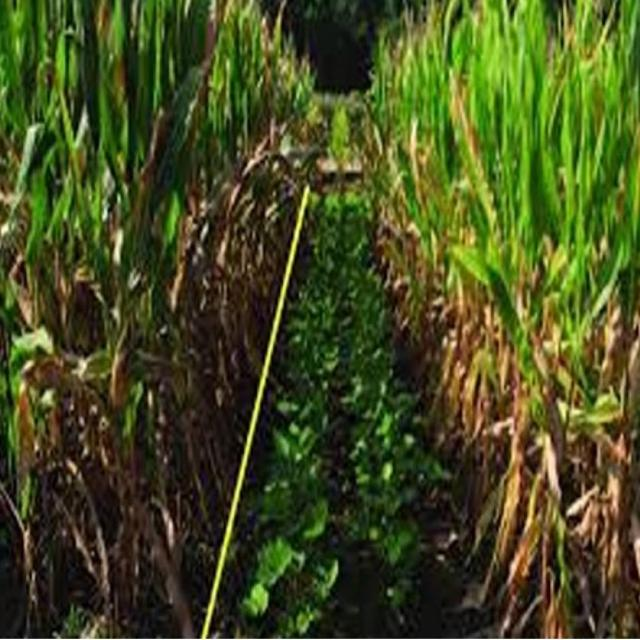row: (172, 167, 516, 640)
